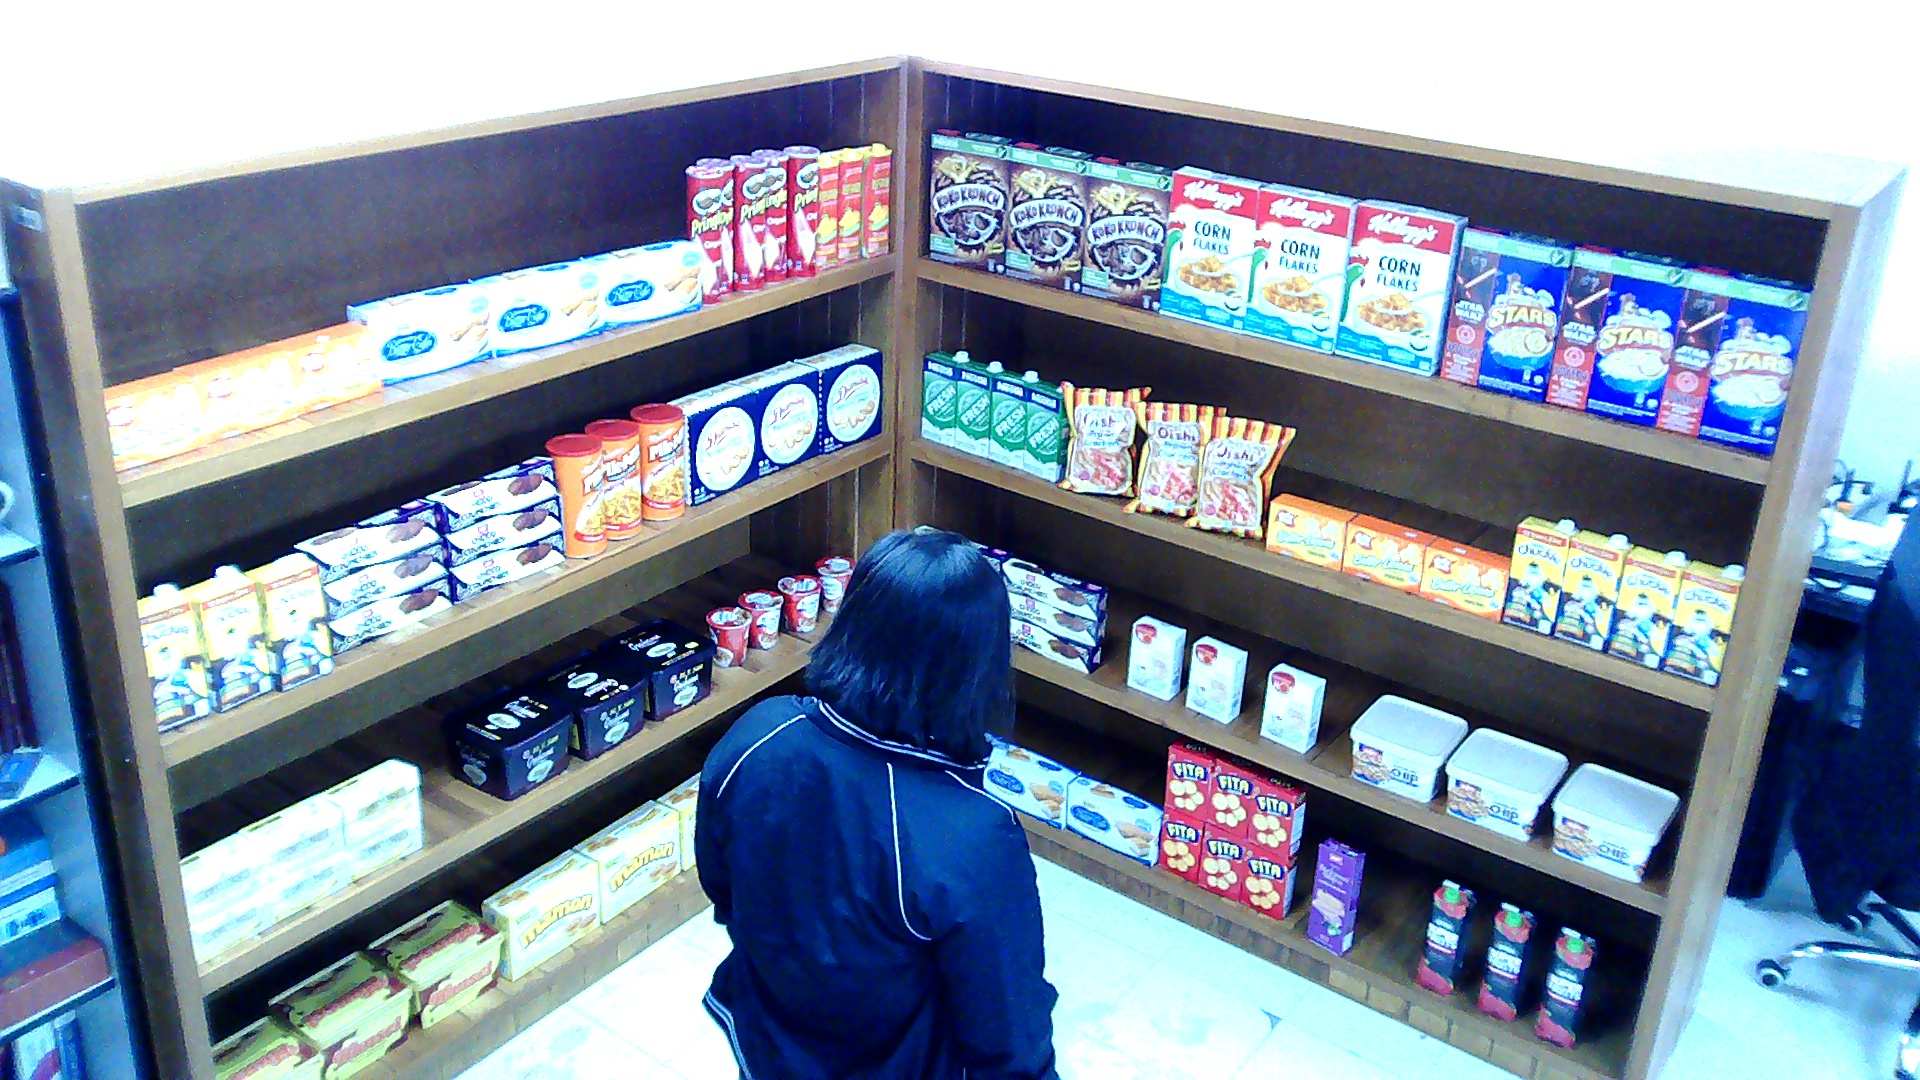Buttercake: (345, 279, 492, 387), (467, 258, 602, 355), (582, 239, 702, 329)
Butterlicious: (173, 344, 296, 441), (102, 371, 204, 472), (269, 322, 380, 414), (1341, 513, 1437, 594), (1419, 535, 1509, 621), (1266, 493, 1356, 569)
Camomille: (240, 794, 342, 877), (321, 758, 417, 841), (177, 832, 264, 918), (188, 882, 269, 965), (270, 845, 351, 924), (347, 810, 422, 880)
Choco Crunchies: (293, 497, 440, 580), (423, 457, 555, 531), (323, 542, 446, 618), (329, 576, 452, 652), (450, 531, 564, 603), (444, 497, 561, 565), (1002, 555, 1107, 620), (1008, 616, 1101, 675), (1007, 592, 1106, 646)
Chocolate Chips: (1547, 762, 1682, 881), (1443, 726, 1569, 841), (1347, 693, 1467, 803)
Chuckie: (183, 565, 273, 711), (243, 553, 333, 688), (135, 585, 210, 731), (1662, 558, 1746, 686), (1608, 545, 1686, 671), (1554, 529, 1632, 653), (1503, 515, 1575, 634)
Danisa: (669, 382, 756, 504), (729, 359, 819, 476), (798, 342, 879, 452)
Fita: (1065, 774, 1161, 866), (984, 738, 1080, 828), (1248, 772, 1308, 858), (1206, 751, 1266, 837), (1164, 737, 1221, 818), (1238, 839, 1295, 918), (1158, 806, 1203, 882), (1196, 824, 1241, 900)
Fresh Milk: (954, 359, 1002, 456), (990, 368, 1038, 467), (1022, 380, 1067, 479), (920, 348, 965, 445)
Grahams: (437, 681, 572, 800), (519, 647, 651, 760), (596, 616, 713, 719)
Hansel: (362, 898, 503, 1028), (267, 949, 411, 1075), (210, 1014, 324, 1077)
Head: (800, 517, 1025, 765)
Honey Stars: (1656, 261, 1812, 455), (1545, 238, 1689, 425), (1439, 223, 1574, 401)
Kellogg Corn Flakes: (1335, 198, 1467, 376), (1244, 182, 1361, 351), (1157, 164, 1268, 333)
Kimchi Noodles: (704, 607, 749, 666), (776, 574, 821, 630), (738, 589, 783, 648), (813, 553, 855, 612)
Koko Krunch: (1083, 153, 1170, 310), (1005, 137, 1092, 292), (929, 126, 1016, 274)
Locally Mango: (858, 141, 891, 258), (831, 148, 861, 261), (819, 152, 837, 269)
Mamon: (480, 848, 597, 981), (573, 799, 681, 923)
Oishi Prawn: (1182, 414, 1296, 538), (1118, 402, 1223, 517), (1053, 380, 1152, 495)
Pik-nik: (543, 432, 606, 558), (584, 416, 641, 540), (630, 402, 687, 521)
Pringles: (683, 164, 722, 304), (695, 157, 734, 294), (729, 153, 765, 290), (753, 148, 789, 281), (782, 143, 815, 278)
Super Fruits: (1533, 925, 1599, 1049), (1413, 877, 1479, 994), (1475, 900, 1538, 1022)
Wafer: (1305, 837, 1365, 956)
iHop: (1260, 662, 1326, 752), (1185, 634, 1248, 722), (1128, 614, 1185, 700)
